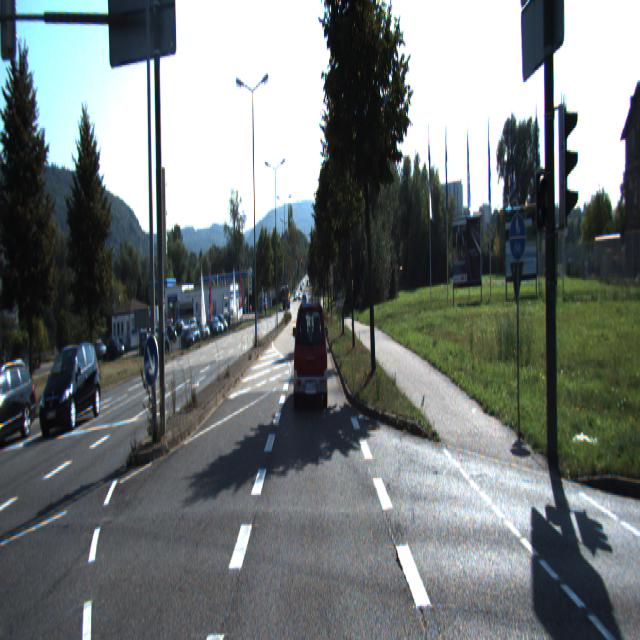Car: (38, 344, 102, 441), (294, 301, 328, 409), (0, 367, 39, 456)
